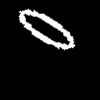chain: (19, 9, 74, 49)
